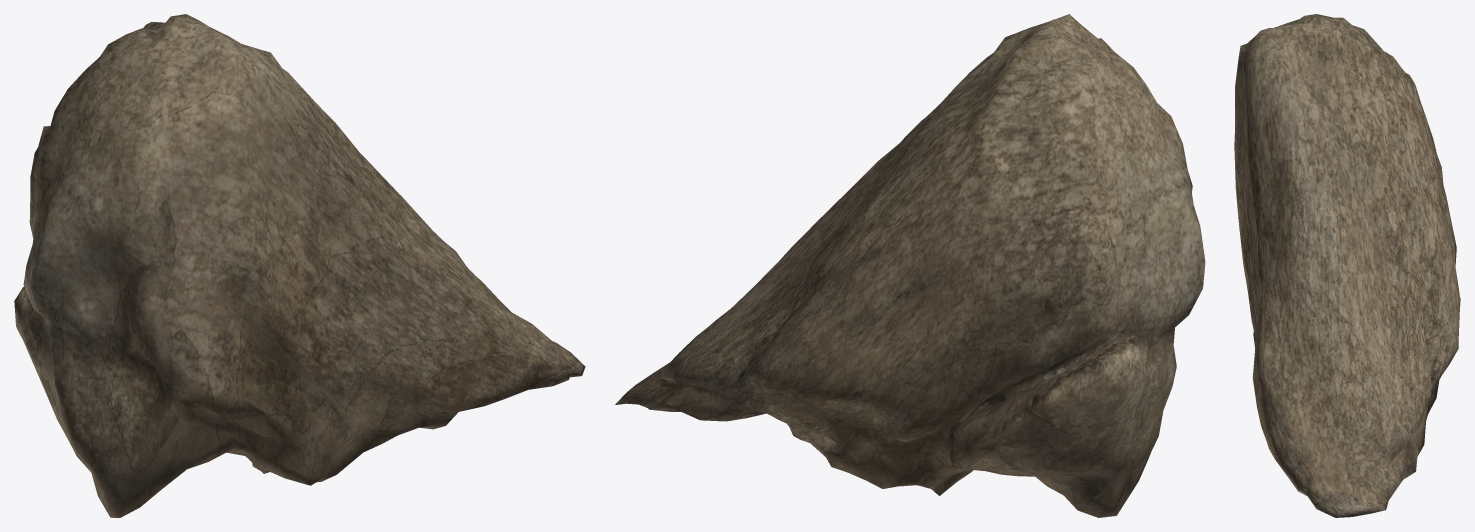
File: mm6_deco_boulder10.glb
3 views of the same model, side by side, from view 1: azimuth 30°, elevation 25°; view 2: azimuth 150°, elevation 25°; view 3: azimuth 270°, elevation 25° (orthographic). The views are drawn at different scales.
Visible parts, largest first — view 1: Boulder10; view 2: Boulder10; view 3: Boulder10.
Part boxes in pixels (x1=…): Boulder10: x1=14, y1=14, x2=585, y2=517; Boulder10: x1=615, y1=14, x2=1205, y2=517; Boulder10: x1=1234, y1=14, x2=1460, y2=517.
Bounding box in the file's own units: 1.53 × 1.24 × 0.6918.
Materials: 1 (1 with a texture image).
